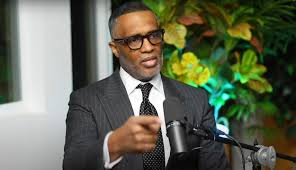s.black: (121, 48, 144, 78)
